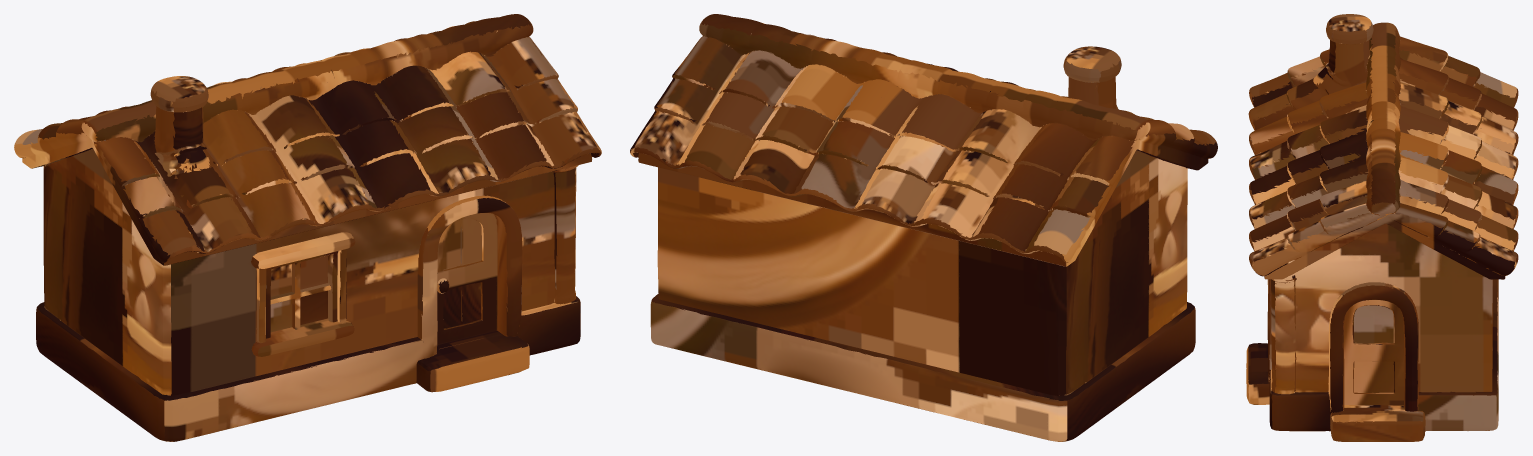
File: Casa1.fbx
3 views of the same model, side by side, from view 1: azimuth 30°, elevation 25°; view 2: azimuth 150°, elevation 25°; view 3: azimuth 270°, elevation 25° (orthographic). The views are drawn at different scales.
Visible parts, largest first — view 1: model.004; view 2: model.004; view 3: model.004.
Boxes of the visible parts, x1,y1,x2,y2 form: model.004: (14,14,601,441); model.004: (630,14,1217,441); model.004: (1246,14,1518,441).
Size of the model in its own units: 189 by 124 by 116.
